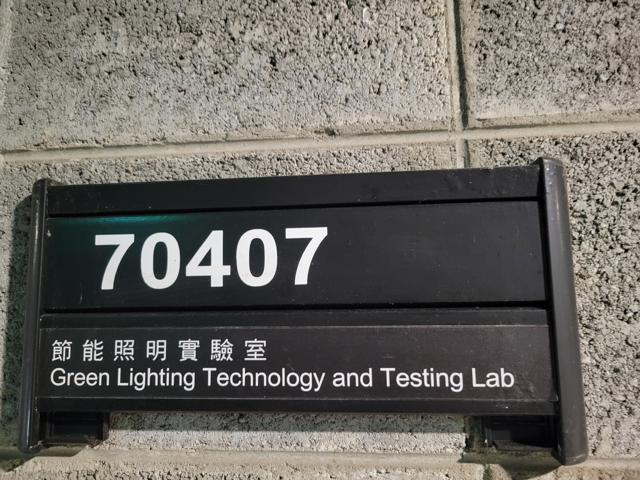doorplate: (14, 153, 595, 463)
